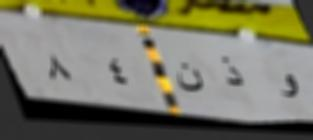4: (100, 56, 136, 89)
8: (41, 53, 75, 82)
noon: (176, 57, 206, 97)
waw: (272, 67, 304, 104)
zaal: (211, 55, 252, 92)
